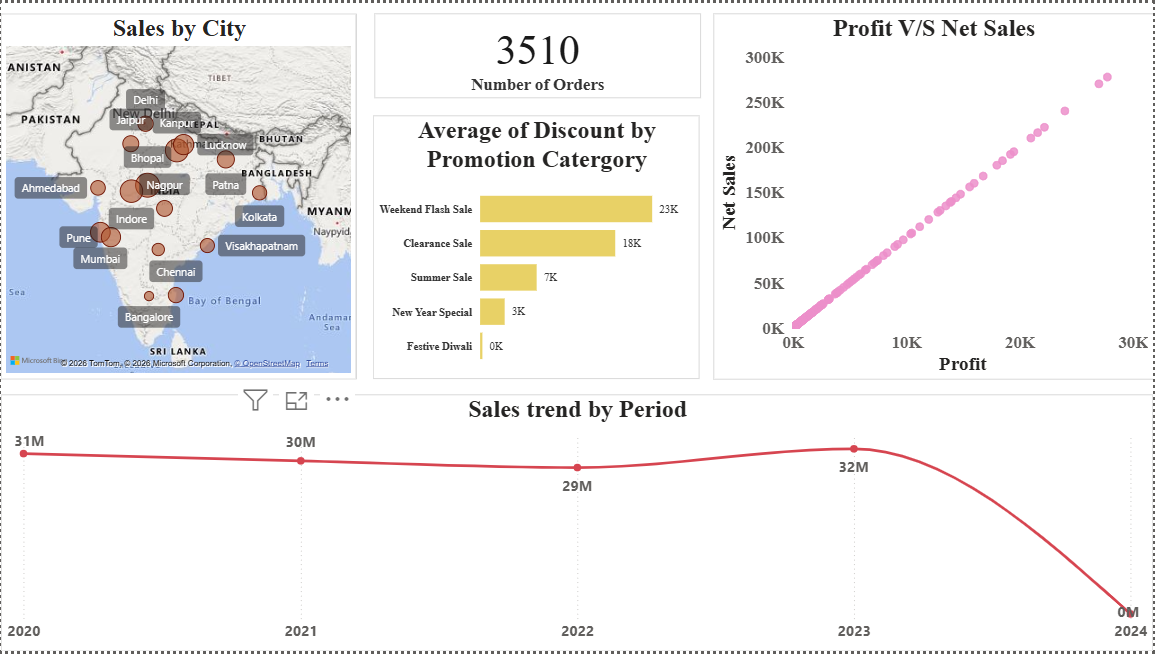

This screenshot's page, from the dashboard's own definition file:
{"tool":"powerbi","page":{"name":"Overview","canvas":[1280,720],"ordinal":1},"visuals":[{"type":"lineChart","title":"Sales trend by Period","fields":{"Y":["Sum(Fact table.Net Sales)"],"Category":["Date Table 1.Date.Variation.Date Hierarchy.Year","Date Table 1.Date.Variation.Date Hierarchy.Quarter","Date Table 1.Date.Variation.Date Hierarchy.Month","Date Table 1.Date.Variation.Date Hierarchy.Day"]},"box":[0,435,1280,285],"z":0},{"type":"scatterChart","title":"Profit V/S Net Sales","fields":{"X":["Fact table.Profit"],"Y":["Fact table.Net Sales"]},"box":[791.8,11.3,489,406.4],"z":1000},{"type":"barChart","title":"Average of Discount by Promotion Catergory","fields":{"Y":["Avg(Fact table.Discount)"],"Category":["Dim Promotion.Promotion Name"]},"box":[413.9,124.7,362.8,292.9],"z":2000},{"type":"map","title":"Sales by City","fields":{"Category":["Dim Customers.City"],"Size":["Sum(Fact table.Net Sales)"]},"box":[0,11.3,395.1,406.4],"z":3000},{"type":"card","fields":{"Values":["Count(Fact table.Order ID)"]},"box":[414.5,11.3,362.7,93.9],"z":4000}]}

Visuals, with their boxes in screenshot pixels (x1, y1, x2, y2), scaled from the page's 1280x720 canvas onto the 1155x654 screenshot:
"Sales trend by Period" lineChart: bbox=[0, 395, 1154, 653]
"Profit V/S Net Sales" scatterChart: bbox=[714, 10, 1154, 379]
"Average of Discount by Promotion Catergory" barChart: bbox=[373, 113, 701, 379]
"Sales by City" map: bbox=[0, 10, 357, 379]
card - Count(Fact table.Order ID): bbox=[374, 10, 701, 96]
